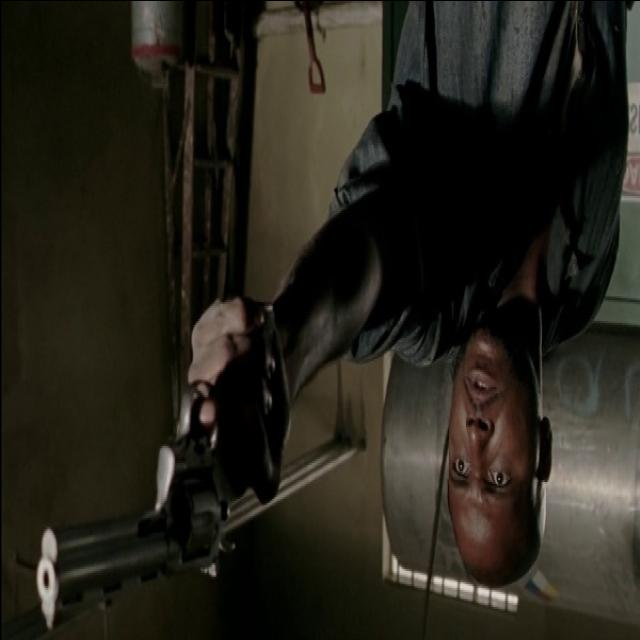weapons: (30, 318, 284, 632)
